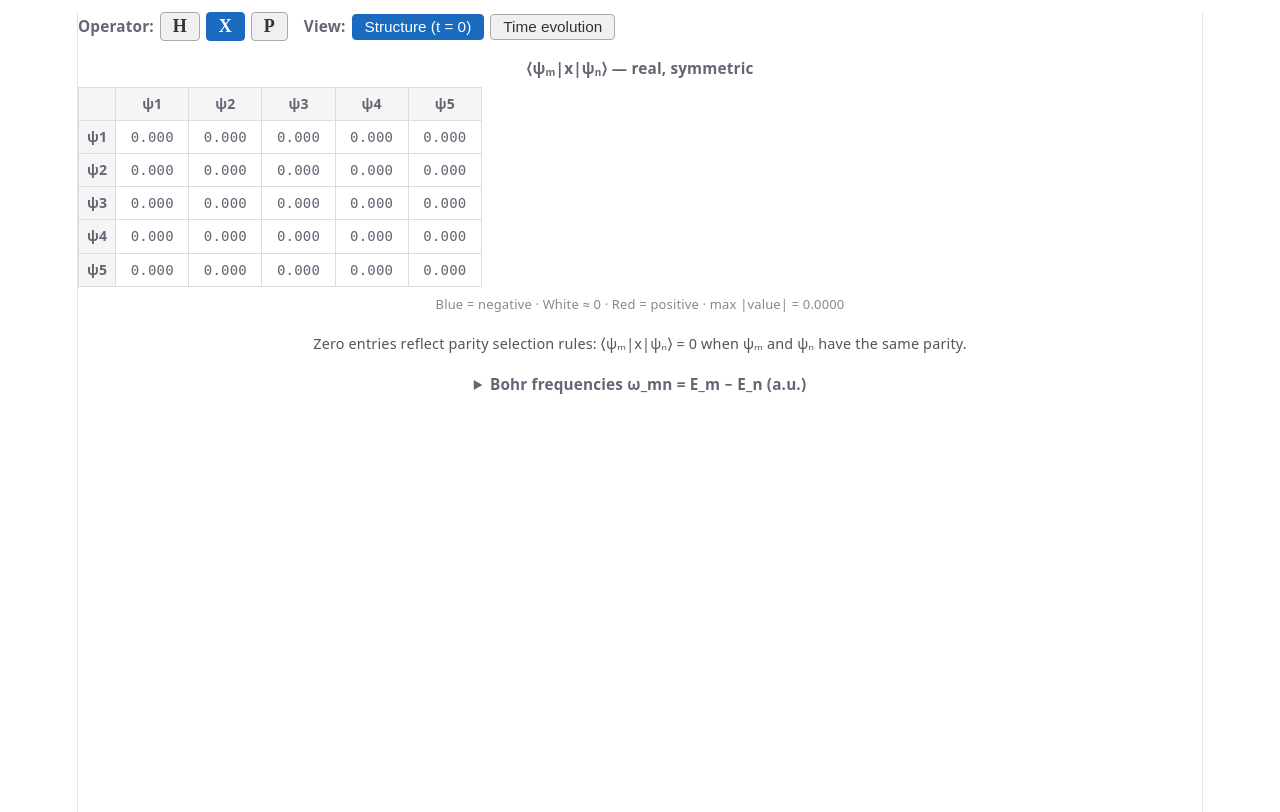
Test: MatrixPanel › clicking Time evolution view shows Play button
Click the button "Time evolution": (553, 26) [490,14,615,40]
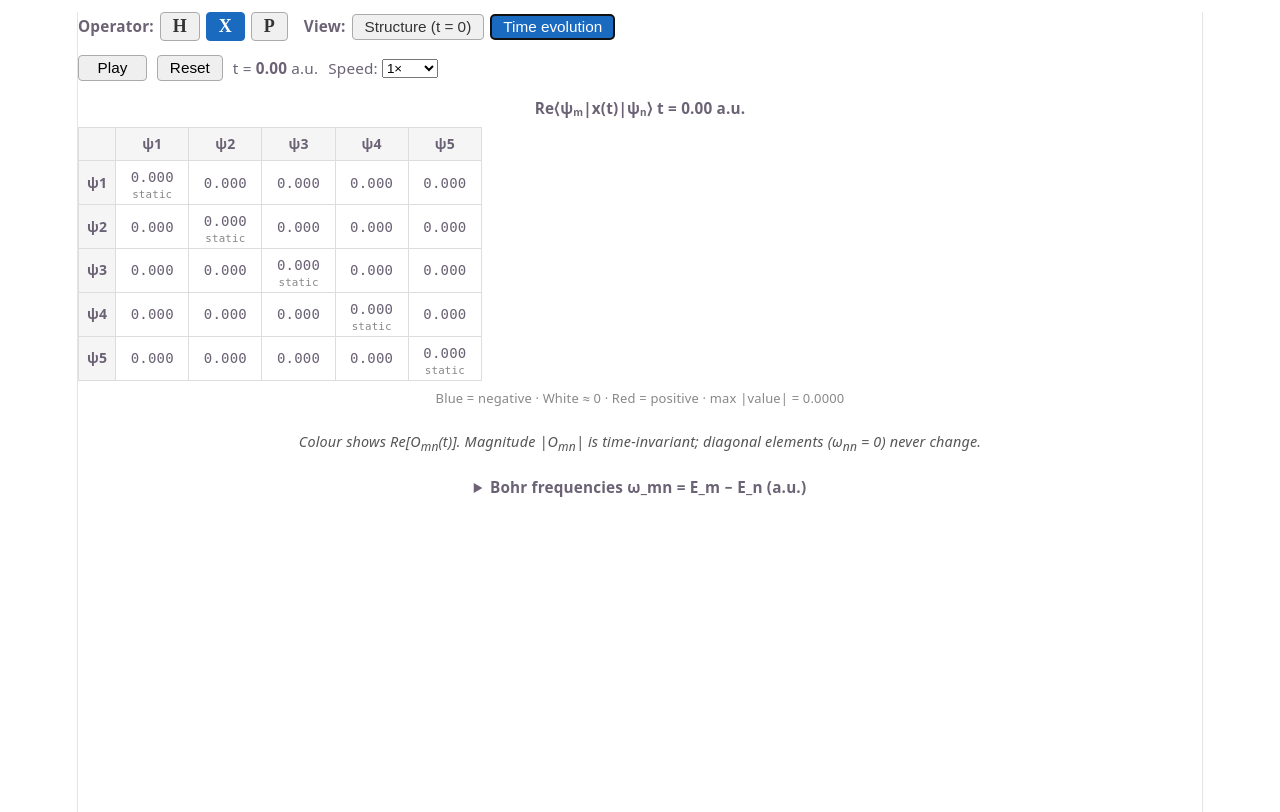
Result: the button "Play" is shown at [78,55,147,81]
